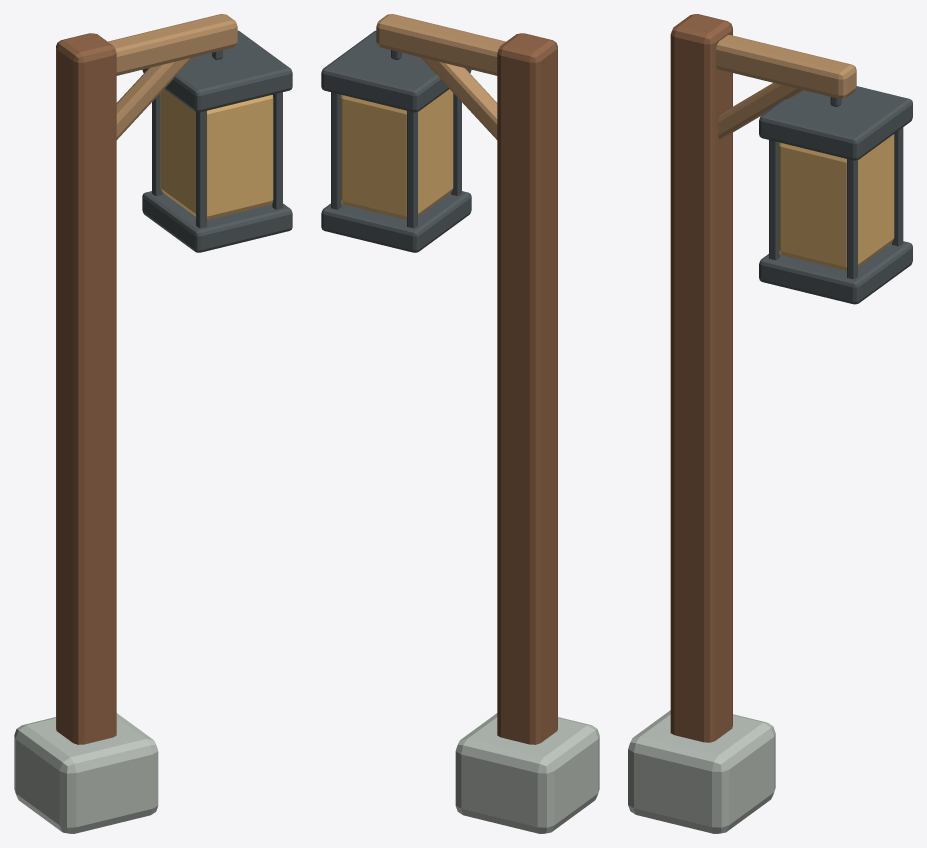
The model's file is village_lantern_post.glb.
3 views of the same model, side by side, from view 1: azimuth 30°, elevation 25°; view 2: azimuth 150°, elevation 25°; view 3: azimuth 330°, elevation 25° (orthographic). The views are drawn at different scales.
Visible parts, largest first — view 1: village_lantern_post; view 2: village_lantern_post; view 3: village_lantern_post.
Part boxes in pixels (x1=…): village_lantern_post: x1=14, y1=14, x2=292, y2=833; village_lantern_post: x1=321, y1=14, x2=599, y2=833; village_lantern_post: x1=628, y1=14, x2=912, y2=833.
Bounding box in the file's own units: 0.75 × 2.4 × 0.32.
